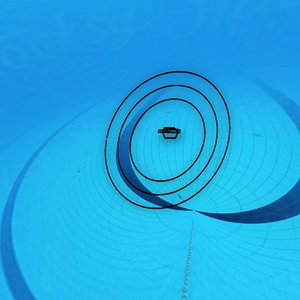circle: (104, 70, 225, 209)
submarine: (157, 121, 180, 141)
